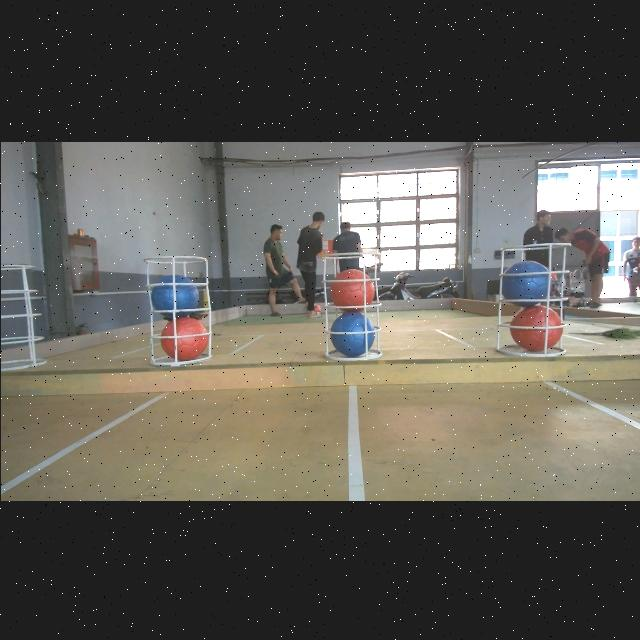B: (497, 258, 551, 306), (328, 310, 374, 356), (151, 273, 199, 315)
R: (508, 306, 560, 350), (160, 316, 208, 358), (329, 266, 373, 310)
